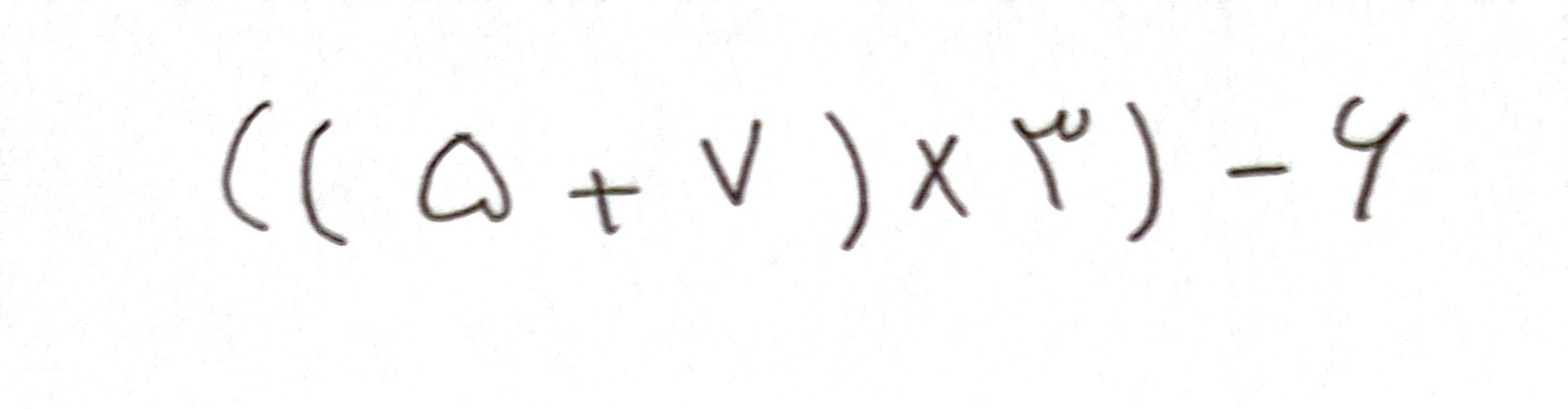character: (1333, 96, 1405, 223), (418, 133, 511, 223), (1011, 107, 1089, 209), (222, 98, 274, 233), (822, 110, 870, 251), (302, 119, 349, 245), (697, 119, 761, 206), (568, 167, 645, 235), (910, 133, 968, 219), (1127, 99, 1160, 240), (1225, 164, 1289, 178)
